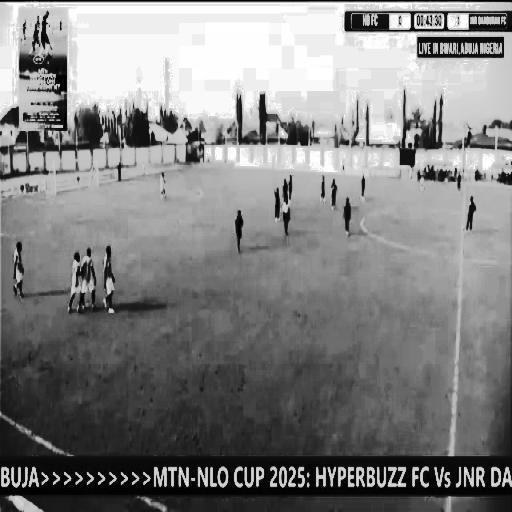ball: (459, 225, 463, 234)
keeper2: (156, 166, 169, 202)
referee: (278, 199, 292, 240)
team1: (80, 237, 98, 313), (11, 244, 31, 303), (101, 242, 117, 314), (74, 245, 82, 311), (418, 170, 426, 194)
team2: (235, 207, 246, 254), (341, 197, 353, 237), (468, 193, 478, 235), (279, 176, 290, 203), (273, 181, 280, 223), (455, 165, 464, 189), (286, 170, 292, 202), (330, 177, 336, 208), (321, 164, 325, 204), (361, 173, 366, 199)
